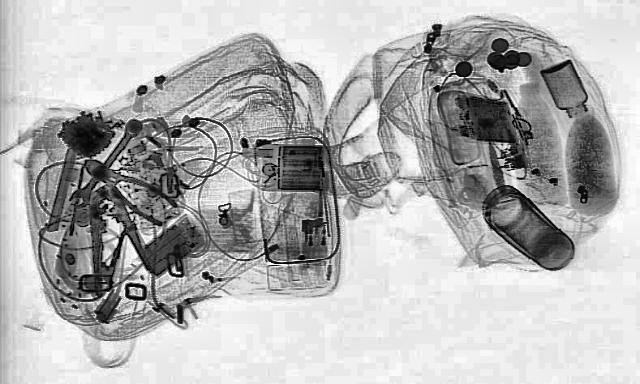Pliers: (66, 150, 194, 228), (67, 182, 153, 282)
Wrench: (61, 116, 147, 210)
